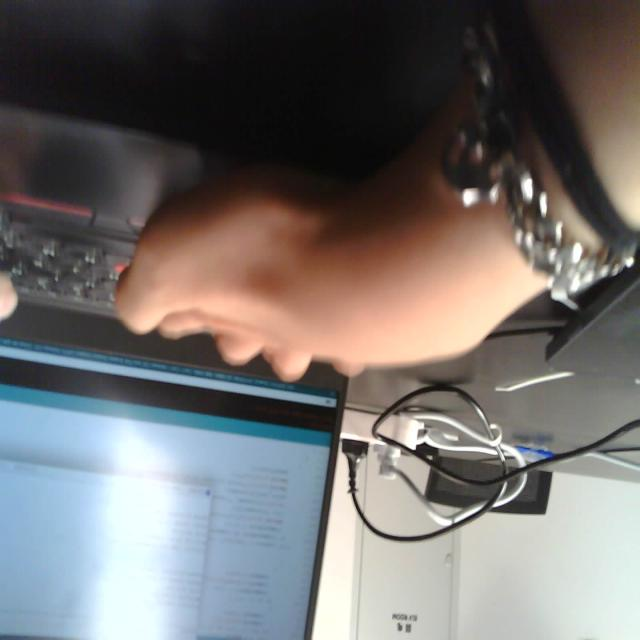keyboard-with-hands: (0, 97, 423, 358)
